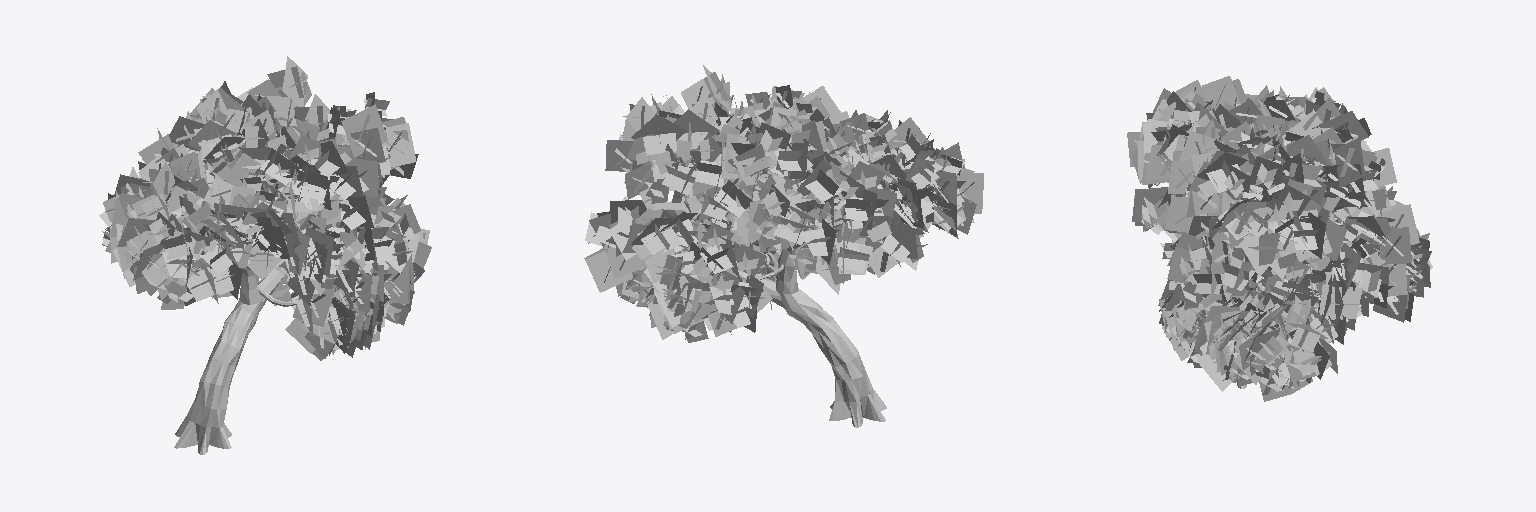
File: CherryBlossom_3.obj
3 renders of one model, left to right at view 1: azimuth 30°, elevation 25°; view 2: azimuth 150°, elevation 25°; view 3: azimuth 270°, elevation 25°, orthographic.
Visible parts, largest first — view 1: CherryBlossom_3; view 2: CherryBlossom_3; view 3: CherryBlossom_3.
Boxes of the visible parts, x1,y1,x2,y2 form: CherryBlossom_3: [99, 56, 431, 454]; CherryBlossom_3: [584, 65, 983, 427]; CherryBlossom_3: [1127, 76, 1432, 401].
Bounding box in the file's own units: 16.59 × 14.49 × 13.03.